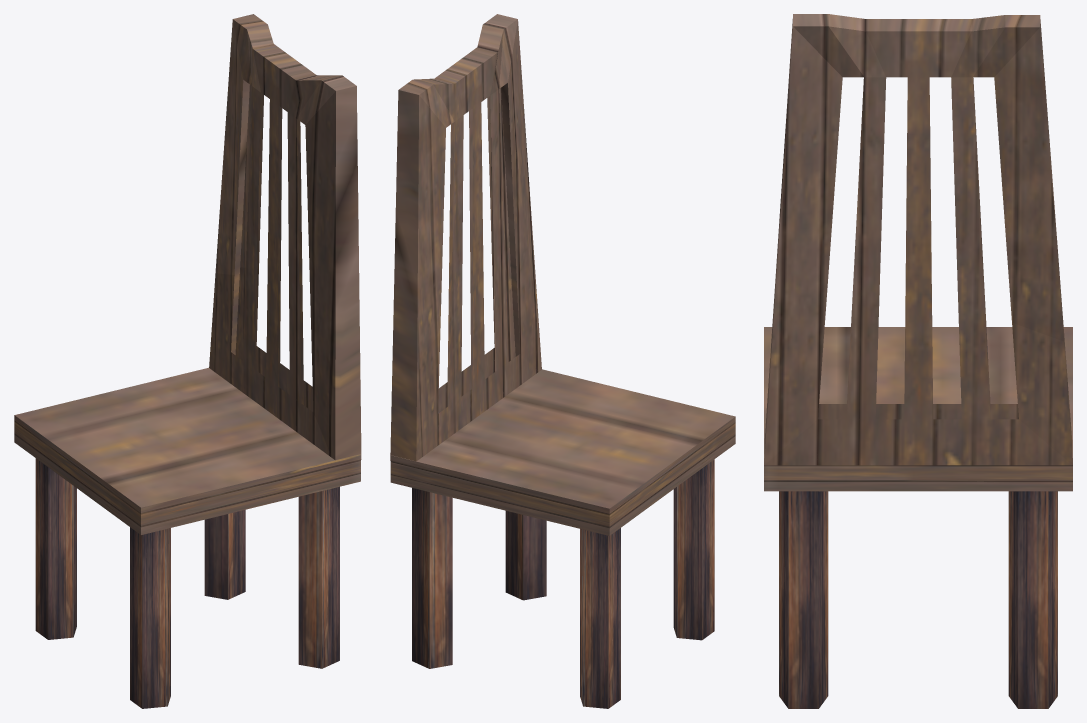
Rendered from chair.fbx.
The picture shows the model from 3 angles, left to right: view 1: azimuth 30°, elevation 25°; view 2: azimuth 150°, elevation 25°; view 3: azimuth 270°, elevation 25°; orthographic projection. The views are drawn at different scales.
Parts seen in each view (by area): view 1: Cube.002, chair, Cylinder; view 2: Cube.002, chair, Cylinder; view 3: Cube.002, Cylinder, chair.
Boxes of the visible parts, x1,y1,x2,y2 form: Cube.002: (209,14,361,460); chair: (14,367,360,534); Cylinder: (35,458,339,708); Cube.002: (390,14,541,461); chair: (390,369,735,535); Cylinder: (412,459,714,708); Cube.002: (764,14,1072,465); Cylinder: (779,491,1057,708); chair: (764,327,1072,491).
Size of the model in its own units: 58.25 by 139 by 56.11.
